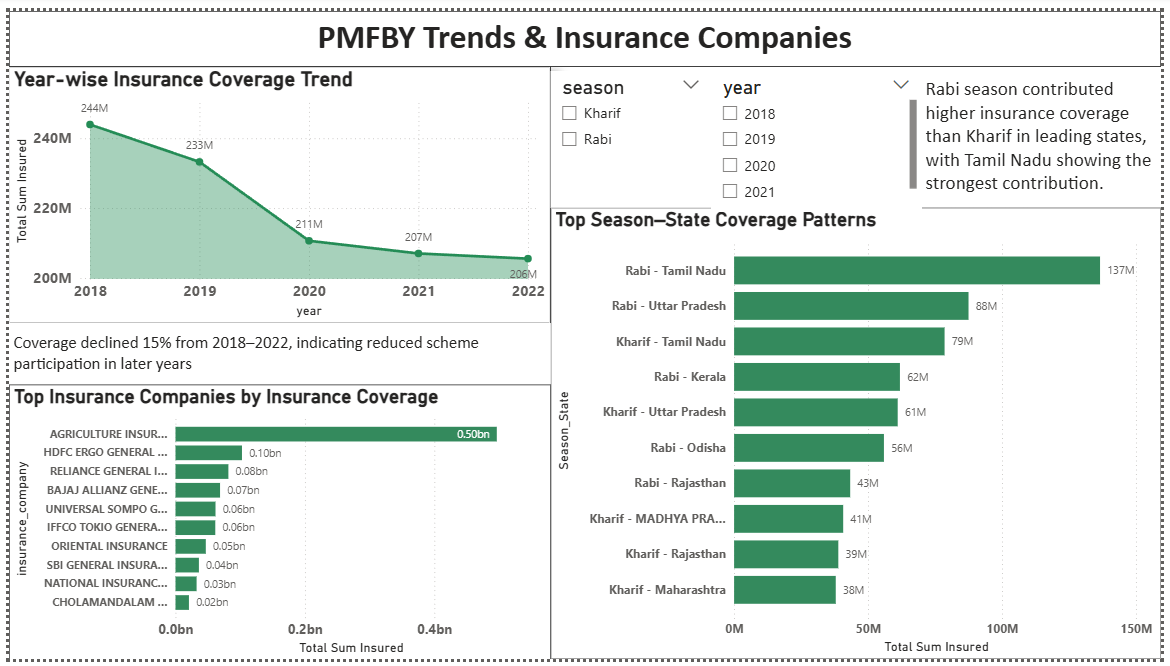

The page's visual inventory and layout, read from the dashboard file:
{"tool":"powerbi","page":{"name":"Trends & Insurance Companies","canvas":[1280,720],"ordinal":4},"visuals":[{"type":"lineChart","title":"Year-wise Insurance Coverage Trend","fields":{"Category":["PMFBY_crop_insurance_analytics_dashboard.year"],"Y":["PMFBY_crop_insurance_analytics_dashboard.Total Sum Insured"]},"box":[0,61.7,601.7,285],"z":0},{"type":"clusteredBarChart","title":"Top Insurance Companies by Insurance Coverage","fields":{"Category":["PMFBY_crop_insurance_analytics_dashboard.insurance_company"],"Y":["PMFBY_crop_insurance_analytics_dashboard.Total Sum Insured"]},"box":[0,414.5,602.4,306],"z":1000},{"type":"clusteredBarChart","title":"Top Season–State Coverage Patterns","fields":{"Category":["PMFBY_crop_insurance_analytics_dashboard.Season_State"],"Y":["PMFBY_crop_insurance_analytics_dashboard.Total Sum Insured"]},"box":[601.7,218.3,678.3,501.7],"z":2000},{"type":"textbox","box":[0,0,1280,62],"z":3000},{"type":"slicer","fields":{"Values":["PMFBY_crop_insurance_analytics_dashboard.season"]},"box":[601.7,66.7,178.3,151.7],"z":4000},{"type":"slicer","fields":{"Values":["PMFBY_crop_insurance_analytics_dashboard.year"]},"box":[780,66.7,233.3,156.7],"z":5000},{"type":"textbox","box":[0,346,602,68],"z":6000},{"type":"textbox","box":[1013.3,68.3,266.7,150],"z":7000}]}

Visuals, with their boxes in screenshot pixels (x1, y1, x2, y2), scaled from the page's 1280x720 canvas onto the 1170x666 screenshot:
"Year-wise Insurance Coverage Trend" lineChart: 0:57:550:321
"Top Insurance Companies by Insurance Coverage" clusteredBarChart: 0:383:551:665
"Top Season–State Coverage Patterns" clusteredBarChart: 550:202:1169:665
textbox: 0:0:1169:57
slicer - PMFBY_crop_insurance_analytics_dashboard.season: 550:62:713:202
slicer - PMFBY_crop_insurance_analytics_dashboard.year: 713:62:926:207
textbox: 0:320:550:383
textbox: 926:63:1169:202
